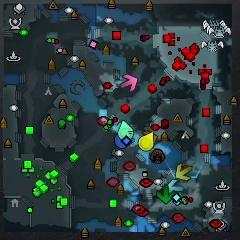p1: (113, 132, 131, 150)
p2: (118, 121, 134, 142)
p4: (138, 131, 155, 151)
x1: (120, 74, 137, 92)
x2: (176, 164, 192, 180)
x3: (169, 178, 185, 194)
x4: (157, 185, 172, 203)
